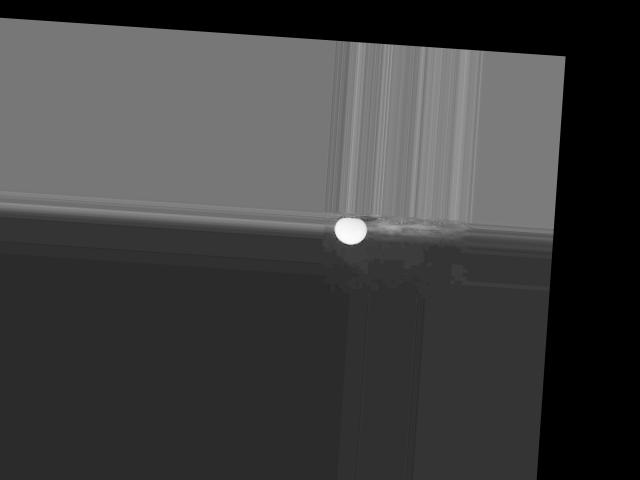egg: (334, 216, 368, 245)
